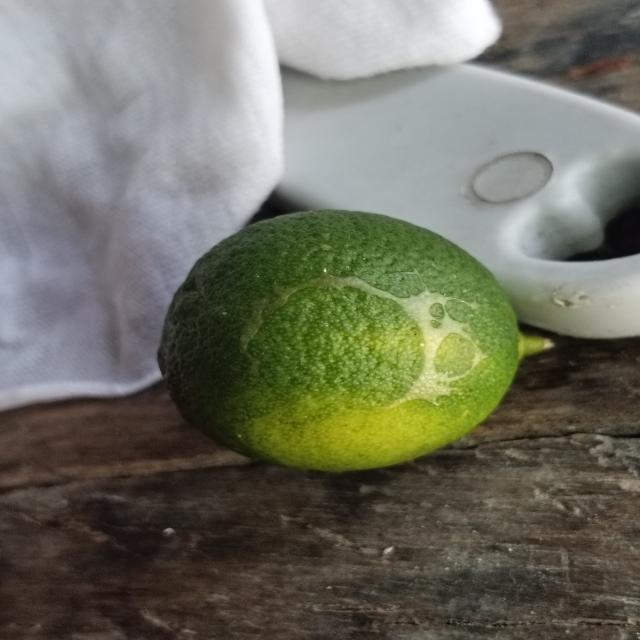thrips: (150, 210, 528, 470)
